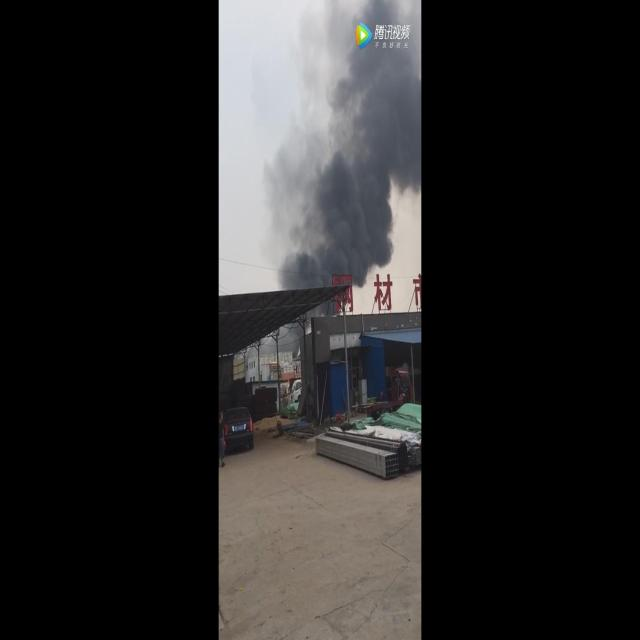smoke: (275, 0, 420, 288)
